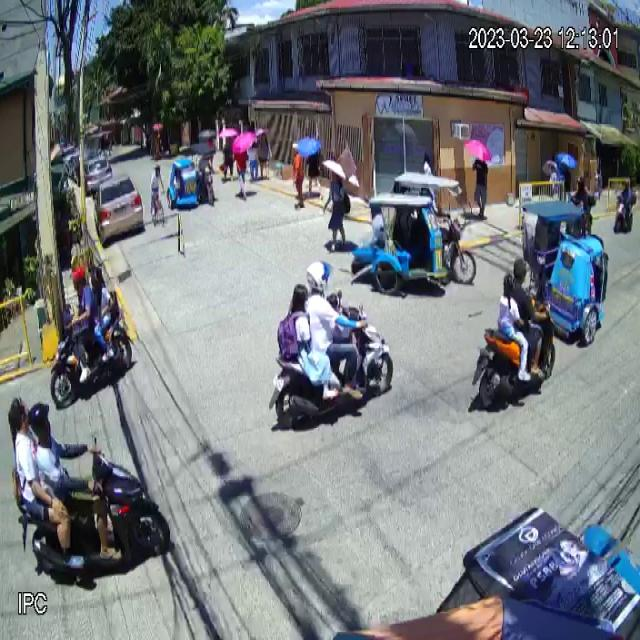Motorcycle: (17, 435, 171, 582), (269, 287, 393, 428), (471, 284, 557, 414), (51, 297, 135, 408)
Tricycle: (351, 173, 478, 295), (520, 200, 609, 348), (166, 142, 216, 212)
